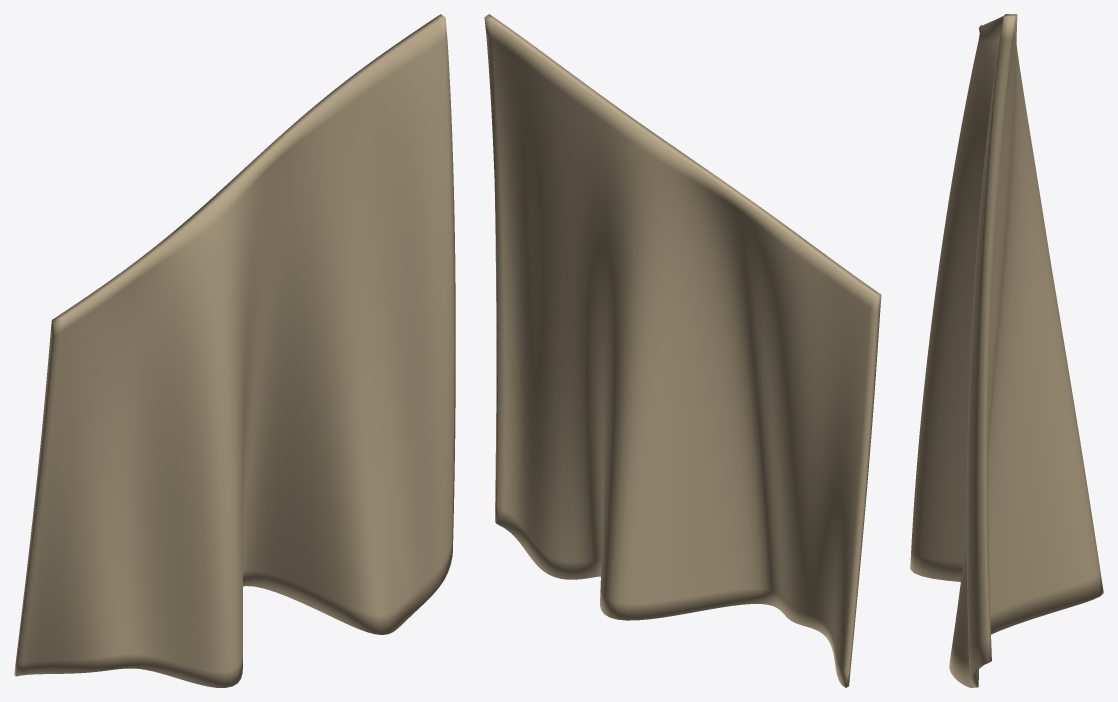
Rendered from cave-drapery.glb.
3 renders of one model, left to right at view 1: azimuth 30°, elevation 25°; view 2: azimuth 150°, elevation 25°; view 3: azimuth 270°, elevation 25°, orthographic. The views are drawn at different scales.
Parts seen in each view (by area): view 1: thick-folded-mineral-drapery-and-sloping-attachment-edge; view 2: thick-folded-mineral-drapery-and-sloping-attachment-edge; view 3: thick-folded-mineral-drapery-and-sloping-attachment-edge.
Boxes of the visible parts, bbox=[...] form: thick-folded-mineral-drapery-and-sloping-attachment-edge: bbox=[14, 14, 455, 687]; thick-folded-mineral-drapery-and-sloping-attachment-edge: bbox=[484, 14, 881, 687]; thick-folded-mineral-drapery-and-sloping-attachment-edge: bbox=[910, 14, 1103, 687].
Bounding box in the file's own units: 0.326 × 0.45 × 0.1117.
